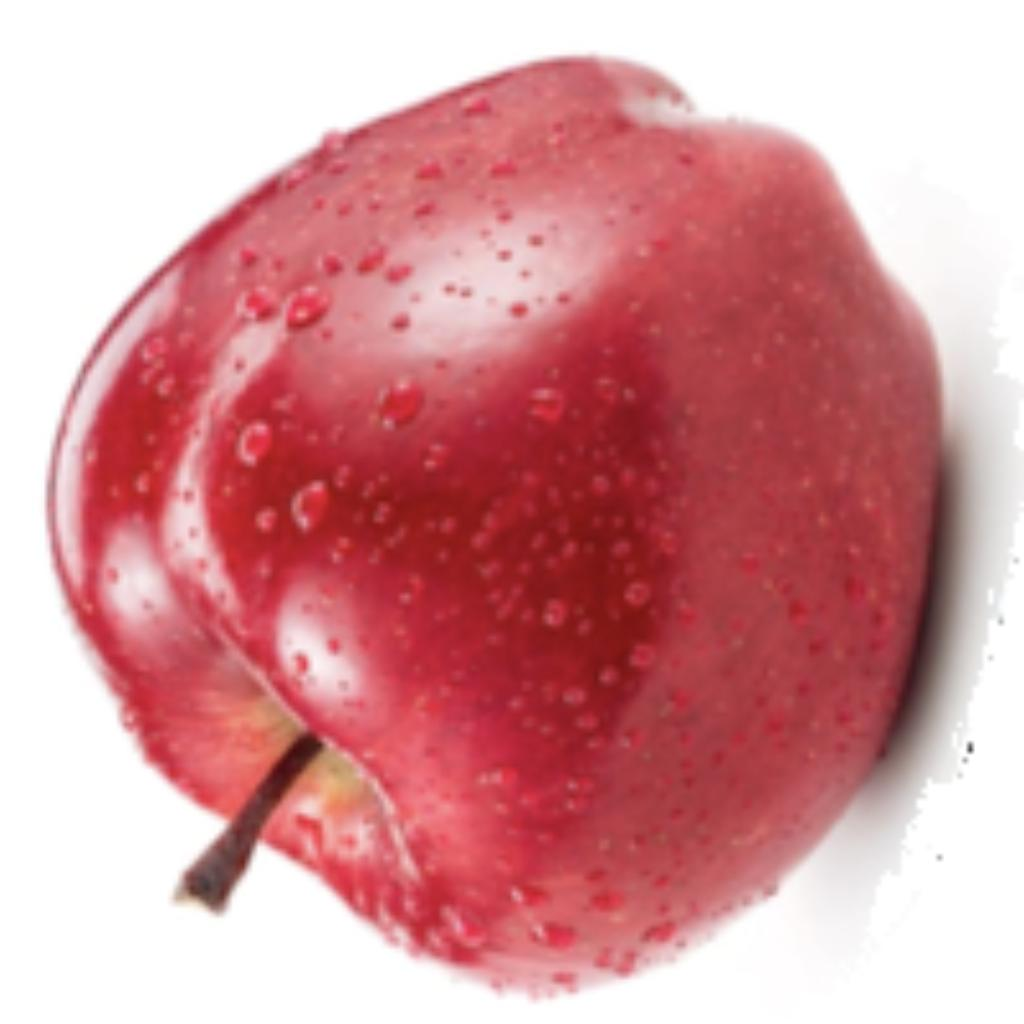apple: (36, 46, 1019, 1004)
